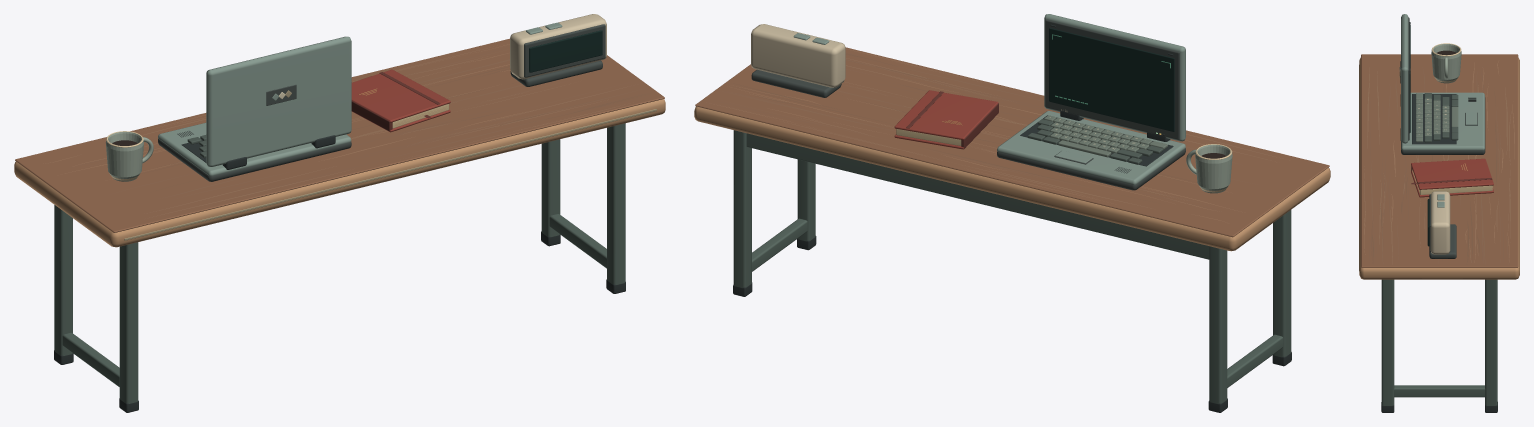
Rendered from workstation.glb.
3 renders of one model, left to right at view 1: azimuth 30°, elevation 25°; view 2: azimuth 150°, elevation 25°; view 3: azimuth 270°, elevation 25°, orthographic. The views are drawn at different scales.
Visible parts, largest first — view 1: Work surface · veneer, Lid shell, Top · rounded laminate, Enamel leg.001, Enamel leg.003, Linen cover.001, Enamel leg, Keyboard shell, Smoked lens, Alarm casing, Enamel leg.002, Front inlay (+11 smaller); view 2: Work surface · veneer, Top · rounded laminate, Panel glass, Rear apron, Alarm casing, Keyboard shell, Linen cover.001, Enamel leg, Enamel leg.002, Display surround, Enamel leg.001, Lid shell (+11 smaller); view 3: Work surface · veneer, Top · rounded laminate, Linen cover.001, Keyboard shell, Enamel leg.003, Enamel leg.002, Alarm casing, Lower stretcher.001, Lid shell, Vein inlay.002, Hand-thrown cup, Keyboard recess (+14 smaller).
Boxes of the visible parts, bbox=[...] form: Work surface · veneer: bbox=[15, 38, 664, 232]; Lid shell: bbox=[206, 36, 351, 166]; Top · rounded laminate: bbox=[14, 99, 665, 247]; Enamel leg.001: bbox=[119, 242, 138, 403]; Enamel leg.003: bbox=[607, 123, 625, 284]; Linen cover.001: bbox=[351, 69, 450, 122]; Enamel leg: bbox=[54, 205, 72, 355]; Keyboard shell: bbox=[158, 122, 351, 176]; Smoked lens: bbox=[529, 30, 602, 72]; Alarm casing: bbox=[510, 14, 606, 79]; Enamel leg.002: bbox=[541, 139, 560, 236]; Front inlay: bbox=[124, 109, 656, 240]; Work surface · veneer: bbox=[695, 47, 1329, 237]; Top · rounded laminate: bbox=[694, 106, 1330, 251]; Panel glass: bbox=[1049, 28, 1174, 131]; Rear apron: bbox=[746, 133, 1209, 259]; Alarm casing: bbox=[751, 24, 845, 87]; Keyboard shell: bbox=[997, 111, 1185, 184]; Linen cover.001: bbox=[894, 90, 998, 139]; Enamel leg: bbox=[1209, 246, 1227, 403]; Enamel leg.002: bbox=[733, 130, 751, 287]; Display surround: bbox=[1045, 20, 1179, 139]; Enamel leg.001: bbox=[1273, 210, 1291, 357]; Lid shell: bbox=[1044, 14, 1185, 141]; Work surface · veneer: bbox=[1361, 54, 1518, 267]; Top · rounded laminate: bbox=[1359, 57, 1519, 279]; Linen cover.001: bbox=[1411, 158, 1493, 189]; Keyboard shell: bbox=[1401, 92, 1484, 150]; Enamel leg.003: bbox=[1381, 279, 1394, 405]; Enamel leg.002: bbox=[1485, 279, 1497, 405]; Alarm casing: bbox=[1430, 191, 1450, 254]; Lower stretcher.001: bbox=[1394, 385, 1485, 397]; Lid shell: bbox=[1401, 14, 1408, 143]; Vein inlay.002: bbox=[1364, 67, 1511, 264]; Hand-thrown cup: bbox=[1431, 44, 1461, 83]; Keyboard recess: bbox=[1412, 94, 1456, 144].
Bounding box in the file's own units: 2.94 × 1.56 × 0.932.
